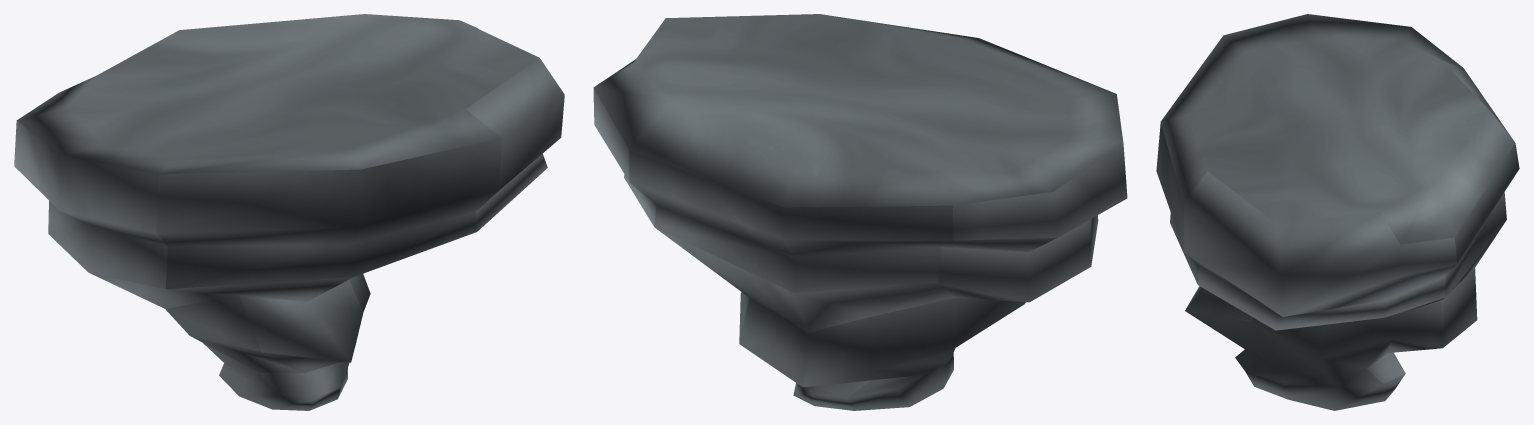
Rendered from Rock_Medium2.fbx.
3 renders of one model, left to right at view 1: azimuth 30°, elevation 25°; view 2: azimuth 150°, elevation 25°; view 3: azimuth 270°, elevation 25°, orthographic. The views are drawn at different scales.
Parts seen in each view (by area): view 1: Rock_Medium; view 2: Rock_Medium; view 3: Rock_Medium.
Part boxes in pixels (x1,y1,x2,y2): Rock_Medium: [14, 14, 564, 410]; Rock_Medium: [593, 14, 1127, 410]; Rock_Medium: [1156, 14, 1519, 410].
Bounding box in the file's own units: 2018 × 1117 × 1397.
